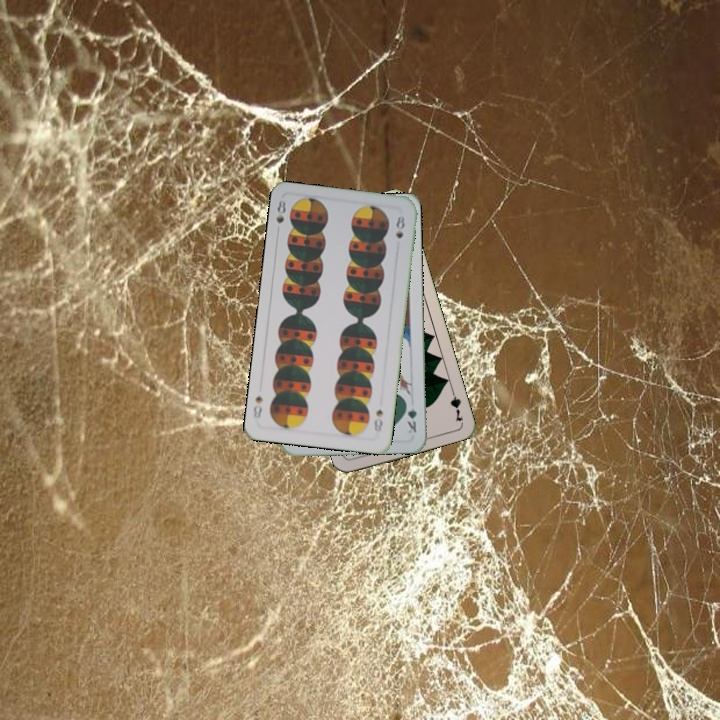G7: (446, 384, 465, 424)
GK: (402, 397, 420, 436)
S8: (272, 196, 288, 236), (370, 406, 386, 436)
